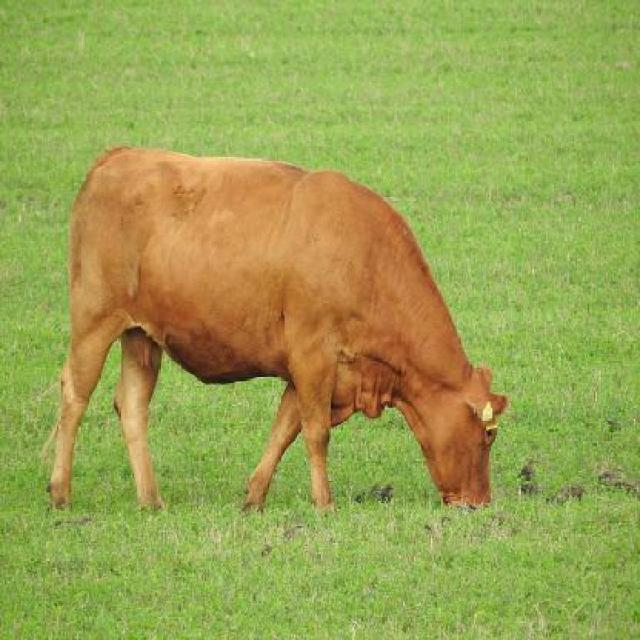Cow: (46, 142, 509, 520)
